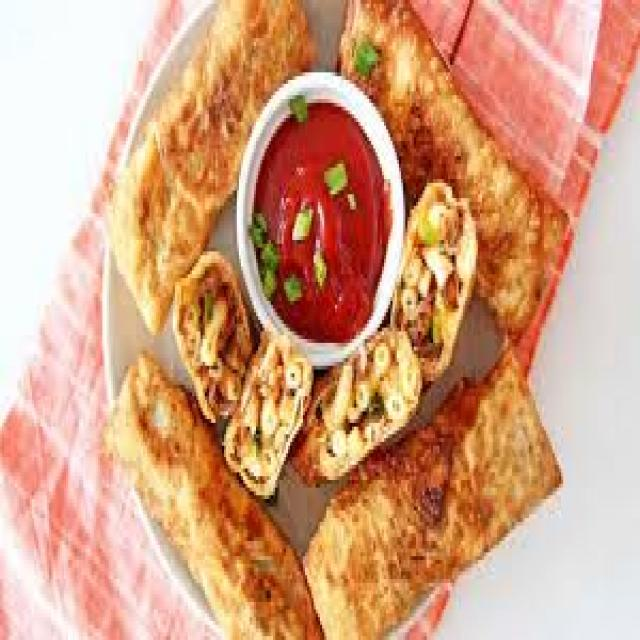organic waste: (335, 0, 567, 343), (299, 343, 559, 636), (105, 0, 312, 328), (100, 347, 318, 636), (250, 95, 388, 335), (295, 324, 418, 484), (218, 316, 316, 499), (390, 175, 476, 370), (166, 248, 252, 415), (352, 34, 382, 80), (320, 153, 346, 195), (292, 206, 312, 244), (282, 266, 300, 304), (258, 236, 275, 271), (288, 91, 307, 122), (312, 248, 324, 286), (260, 267, 275, 293), (250, 210, 260, 232), (346, 187, 352, 210)
